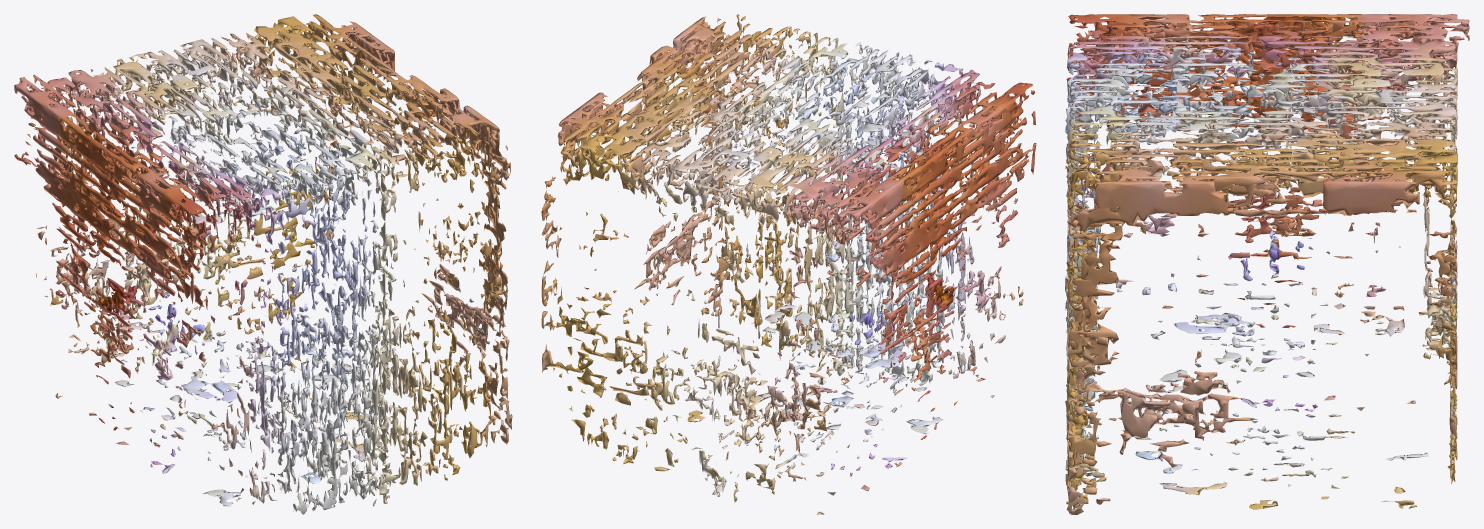
The model's file is well_stone.glb.
3 views of the same model, side by side, from view 1: azimuth 30°, elevation 25°; view 2: azimuth 150°, elevation 25°; view 3: azimuth 270°, elevation 25° (orthographic). The views are drawn at different scales.
Parts seen in each view (by area): view 1: world; view 2: world; view 3: world.
Boxes of the visible parts, x1=… form: world: x1=14, y1=14, x2=512, y2=514; world: x1=541, y1=14, x2=1036, y2=514; world: x1=1065, y1=14, x2=1469, y2=514.
Bounding box in the file's own units: 0.9937 × 0.996 × 0.9922.
Materials: 1 (1 with a texture image).
